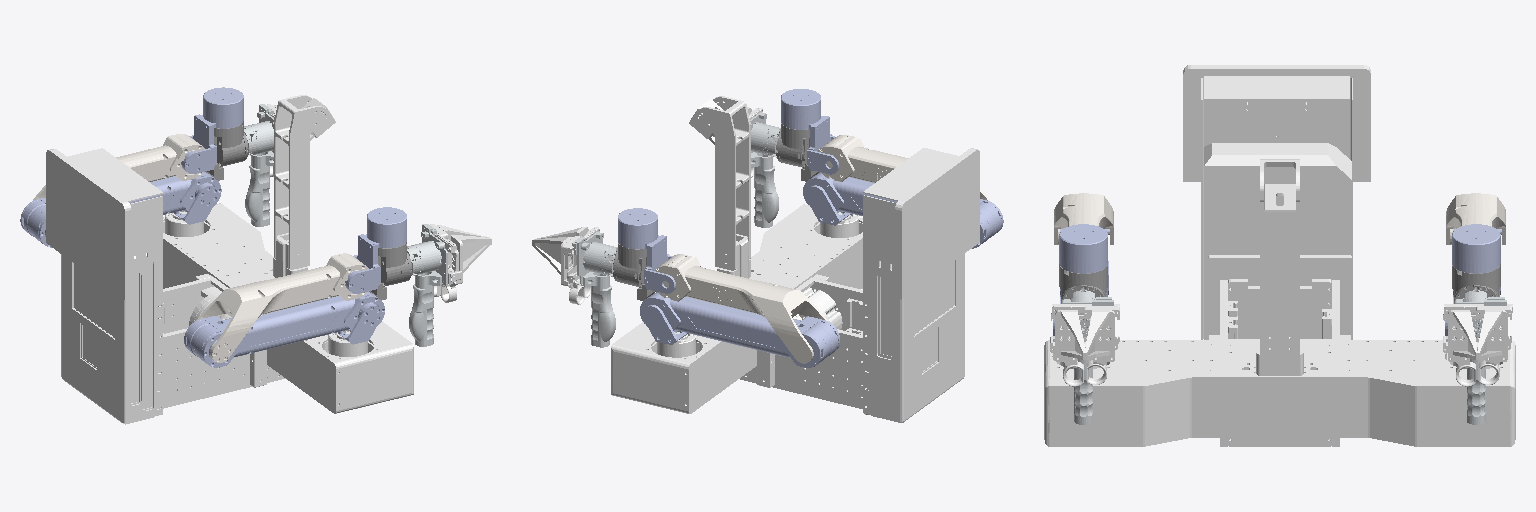
--- Render facts (derived) ---
The picture shows the robot from 3 angles, left to right: view 1: azimuth 30°, elevation 25°; view 2: azimuth 150°, elevation 25°; view 3: azimuth 270°, elevation 25°; orthographic projection.
Robot: lift2 — 21 links, 20 joints (12 revolute, 3 continuous, 5 prismatic); root link base_link; default pose: all joints at 0.
Visible links, largest first — view 1: body4, right_link23, right_link22, right_link26, left_link14, right_link24, left_link16, left_link12, left_link13, right_link28, left_link15, right_link25 (+3 smaller); view 2: body4, left_link13, left_link12, left_link16, right_link24, left_link14, right_link26, right_link23, right_link22, left_link17, left_link15, right_link25 (+2 smaller); view 3: body4, left_link17, right_link24, right_link27, left_link14, left_link13, right_link23, right_link28, left_link18, left_link16, right_link26, right_link25 (+1 smaller).
Link boxes in pixels (x1=…): body4: x1=46, y1=95, x2=413, y2=424; right_link23: x1=196, y1=253, x2=368, y2=362; right_link22: x1=184, y1=291, x2=384, y2=367; right_link26: x1=407, y1=224, x2=452, y2=346; left_link14: x1=182, y1=87, x2=243, y2=173; right_link24: x1=346, y1=207, x2=406, y2=293; left_link16: x1=244, y1=104, x2=273, y2=226; left_link12: x1=20, y1=172, x2=221, y2=247; left_link13: x1=33, y1=134, x2=204, y2=200; right_link28: x1=441, y1=235, x2=491, y2=302; left_link15: x1=205, y1=121, x2=248, y2=180; right_link25: x1=369, y1=242, x2=411, y2=299; body4: x1=611, y1=96, x2=979, y2=422; left_link13: x1=655, y1=254, x2=827, y2=363; left_link12: x1=640, y1=292, x2=839, y2=367; left_link16: x1=572, y1=232, x2=617, y2=347; right_link24: x1=781, y1=89, x2=838, y2=174; left_link14: x1=618, y1=208, x2=675, y2=293; right_link26: x1=750, y1=112, x2=780, y2=227; right_link23: x1=818, y1=135, x2=990, y2=201; right_link22: x1=803, y1=172, x2=1003, y2=248; left_link17: x1=532, y1=227, x2=599, y2=304; left_link15: x1=613, y1=243, x2=655, y2=300; right_link25: x1=776, y1=123, x2=818, y2=181; body4: x1=1044, y1=65, x2=1515, y2=446; left_link17: x1=1443, y1=304, x2=1512, y2=384; right_link24: x1=1059, y1=224, x2=1108, y2=296; right_link27: x1=1051, y1=304, x2=1119, y2=384; left_link14: x1=1452, y1=224, x2=1500, y2=296; left_link13: x1=1446, y1=193, x2=1505, y2=244; right_link23: x1=1054, y1=193, x2=1113, y2=244; right_link28: x1=1050, y1=310, x2=1119, y2=386; left_link18: x1=1443, y1=310, x2=1511, y2=386; left_link16: x1=1446, y1=290, x2=1506, y2=424; right_link26: x1=1053, y1=290, x2=1113, y2=424; right_link25: x1=1059, y1=264, x2=1107, y2=301.
Bounding box of the posed robot: 0.5737 × 0.6 × 0.4177 m (x, y, z).
17 mesh visuals loaded from 21 distinct referenced files (17 binary STL); not drawn: 4 (reference not matched to a file when rendering).

URDF robot description (lift2):
<?xml version="1.0" encoding="utf-8"?>
<!-- This URDF was automatically created by SolidWorks to URDF Exporter! Originally created by Stephen Brawner ([email redacted]) 
     Commit Version: 1.6.0-4-g7f85cfe  Build Version: 1.6.7995.38578
     For more information, please see http://wiki.ros.org/sw_urdf_exporter -->
<robot
  name="lift2">
  <link
    name="base_link">
    <inertial>
      <origin
        xyz="-0.010039 0.0013761 0.04956"
        rpy="0 0 0" />
      <mass
        value="21.045" />
      <inertia
        ixx="1.70029164"
        ixy="-0.00073232"
        ixz="-0.03255532"
        iyy="1.70804910"
        iyz="-0.00688370"
        izz="0.97173287" />
    </inertial>
    <visual>
      <origin
        xyz="0 0 0"
        rpy="0 0 0" />
      <geometry>
        <mesh
          filename="package://lift2/meshes/base_link.STL" />
      </geometry>
      <material
        name="">
        <color
          rgba="0.69804 0.69804 0.69804 1" />
      </material>
    </visual>
    <collision>
      <origin
        xyz="0 0 0"
        rpy="0 0 0" />
      <geometry>
        <mesh
          filename="package://lift2/meshes/base_link.STL" />
      </geometry>
    </collision>
  </link>
  <link
    name="wheel1">
    <inertial>
      <origin
        xyz="0.035966 2.6831E-06 8.693E-07"
        rpy="0 0 0" />
      <mass
        value="0.5746" />
      <inertia
        ixx="0.00142306"
        ixy="0.00000000"
        ixz="0.00000000"
        iyy="0.00084449"
        iyz="0.00000002"
        izz="0.00084474" />
    </inertial>
    <visual>
      <origin
        xyz="0 0 0"
        rpy="0 0 0" />
      <geometry>
        <mesh
          filename="package://lift2/meshes/wheel1.STL" />
      </geometry>
      <material
        name="">
        <color
          rgba="0.69804 0.69804 0.69804 1" />
      </material>
    </visual>
    <collision>
      <origin
        xyz="0 0 0"
        rpy="0 0 0" />
      <geometry>
        <mesh
          filename="package://lift2/meshes/wheel1.STL" />
      </geometry>
    </collision>
  </link>
  <joint
    name="joint1"
    type="continuous">
    <origin
      xyz="0.15361 0.29246 -0.093"
      rpy="0 0 1.0472" />
    <parent
      link="base_link" />
    <child
      link="wheel1" />
    <axis
      xyz="1 0 0" />
    <limit
      effort="17"
      velocity="27" />
  </joint>
  <link
    name="wheel2">
    <inertial>
      <origin
        xyz="0.035966 2.8161E-06 7.9768E-09"
        rpy="0 0 0" />
      <mass
        value="0.5746" />
      <inertia
        ixx="0.00142306"
        ixy="0.00000000"
        ixz="0.00000000"
        iyy="0.00084449"
        iyz="0.00000002"
        izz="0.00084474" />
    </inertial>
    <visual>
      <origin
        xyz="0 0 0"
        rpy="0 0 0" />
      <geometry>
        <mesh
          filename="package://lift2/meshes/wheel2.STL" />
      </geometry>
      <material
        name="">
        <color
          rgba="0.69804 0.69804 0.69804 1" />
      </material>
    </visual>
    <collision>
      <origin
        xyz="0 0 0"
        rpy="0 0 0" />
      <geometry>
        <mesh
          filename="package://lift2/meshes/wheel2.STL" />
      </geometry>
    </collision>
  </link>
  <joint
    name="joint2"
    type="continuous">
    <origin
      xyz="0.15361 -0.29245 -0.093"
      rpy="0 0 -1.0472" />
    <parent
      link="base_link" />
    <child
      link="wheel2" />
    <axis
      xyz="1 0 0" />
    <limit
      effort="17"
      velocity="27" />
  </joint>
  <link
    name="wheel3">
    <inertial>
      <origin
        xyz="-0.035971 2.8084E-06 -1.6209E-07"
        rpy="0 0 0" />
      <mass
        value="0.5746" />
      <inertia
        ixx="0.00142306"
        ixy="0.00000000"
        ixz="0.00000000"
        iyy="0.00084449"
        iyz="0.00000002"
        izz="0.00084474" />
    </inertial>
    <visual>
      <origin
        xyz="0 0 0"
        rpy="0 0 0" />
      <geometry>
        <mesh
          filename="package://lift2/meshes/wheel3.STL" />
      </geometry>
      <material
        name="">
        <color
          rgba="0.89804 0.91765 0.92941 1" />
      </material>
    </visual>
    <collision>
      <origin
        xyz="0 0 0"
        rpy="0 0 0" />
      <geometry>
        <mesh
          filename="package://lift2/meshes/wheel3.STL" />
      </geometry>
    </collision>
  </link>
  <joint
    name="joint3"
    type="continuous">
    <origin
      xyz="-0.35293 0 -0.093"
      rpy="0 0 0" />
    <parent
      link="base_link" />
    <child
      link="wheel3" />
    <axis
      xyz="-1 0 0" />
    <limit
      effort="17"
      velocity="27" />
  </joint>
  <link
    name="body4">
    <inertial>
      <origin
        xyz="-0.053315 -0.00061422 -0.0086454"
        rpy="0 0 0" />
      <mass
        value="14.181" />
      <inertia
        ixx="0.32744849"
        ixy="-0.00306617"
        ixz="0.05920163"
        iyy="0.36541112"
        iyz="0.00117932"
        izz="0.49616592" />
    </inertial>
    <visual>
      <origin
        xyz="0 0 0"
        rpy="0 0 0" />
      <geometry>
        <mesh
          filename="package://lift2/meshes/body4.STL" />
      </geometry>
      <material
        name="">
        <color
          rgba="1 1 1 1" />
      </material>
    </visual>
    <collision>
      <origin
        xyz="0 0 0"
        rpy="0 0 0" />
      <geometry>
        <mesh
          filename="package://lift2/meshes/body4.STL" />
      </geometry>
    </collision>
  </link>
  <joint
    name="joint4"
    type="prismatic">
    <origin
      xyz="0.094118 0.0010067 0.27"
      rpy="0 0 0" />
    <parent
      link="base_link" />
    <child
      link="body4" />
    <axis
      xyz="0 0 1" />
    <limit
      lower="0"
      upper="0.46"
      effort="400"
      velocity="0.15" />
  </joint>
  <link
    name="left_link11">
    <inertial>
      <origin
        xyz="0.0054231 -0.0080289 0.017086"
        rpy="0 0 0" />
      <mass
        value="0.066982" />
      <inertia
        ixx="0.00008086"
        ixy="0.00000207"
        ixz="-0.00000876"
        iyy="0.00003211"
        iyz="0.00000440"
        izz="0.00007702" />
    </inertial>
    <visual>
      <origin
        xyz="0 0 0"
        rpy="0 0 0" />
      <geometry>
        <mesh
          filename="package://lift2/meshes/left_link11.STL" />
      </geometry>
      <material
        name="">
        <color
          rgba="0.79216 0.81961 0.93333 1" />
      </material>
    </visual>
    <collision>
      <origin
        xyz="0 0 0"
        rpy="0 0 0" />
      <geometry>
        <mesh
          filename="package://lift2/meshes/left_link11.STL" />
      </geometry>
    </collision>
  </link>
  <joint
    name="left_joint11"
    type="revolute">
    <origin
      xyz="0.059949 0.25 0.0245"
      rpy="0 0 0" />
    <parent
      link="body4" />
    <child
      link="left_link11" />
    <axis
      xyz="0 0 1" />
    <limit
      lower="-2.094"
      upper="3.1416"
      effort="27"
      velocity="5.5" />
  </joint>
  <link
    name="left_link12">
    <inertial>
      <origin
        xyz="-0.13234 -0.0040166 0.00010941"
        rpy="0 0 0" />
      <mass
        value="1.1068" />
      <inertia
        ixx="0.00054299"
        ixy="-0.00000184"
        ixz="0.00003884"
        iyy="0.01652639"
        iyz="-0.00000035"
        izz="0.01654931" />
    </inertial>
    <visual>
      <origin
        xyz="0 0 0"
        rpy="0 0 0" />
      <geometry>
        <mesh
          filename="package://lift2/meshes/left_link12.STL" />
      </geometry>
      <material
        name="">
        <color
          rgba="0.79216 0.81961 0.93333 1" />
      </material>
    </visual>
    <collision>
      <origin
        xyz="0 0 0"
        rpy="0 0 0" />
      <geometry>
        <mesh
          filename="package://lift2/meshes/left_link12.STL" />
      </geometry>
    </collision>
  </link>
  <joint
    name="left_joint12"
    type="revolute">
    <origin
      xyz="0.02 0 0.04"
      rpy="0 0 0" />
    <parent
      link="left_link11" />
    <child
      link="left_link12" />
    <axis
      xyz="0 1 0" />
    <limit
      lower="0"
      upper="3.665"
      effort="27"
      velocity="5.5" />
  </joint>
  <link
    name="left_link13">
    <inertial>
      <origin
        xyz="0.18544 -0.00071369 0.051628"
        rpy="0 0 0" />
      <mass
        value="0.54316" />
      <inertia
        ixx="0.00036398"
        ixy="-0.00002814"
        ixz="-0.00039418"
        iyy="0.00422770"
        iyz="-0.00001179"
        izz="0.00419421" />
    </inertial>
    <visual>
      <origin
        xyz="0 0 0"
        rpy="0 0 0" />
      <geometry>
        <mesh
          filename="package://lift2/meshes/left_link13.STL" />
      </geometry>
      <material
        name="">
        <color
          rgba="1 0.98431 0.96471 1" />
      </material>
    </visual>
    <collision>
      <origin
        xyz="0 0 0"
        rpy="0 0 0" />
      <geometry>
        <mesh
          filename="package://lift2/meshes/left_link13.STL" />
      </geometry>
    </collision>
  </link>
  <joint
    name="left_joint13"
    type="revolute">
    <origin
      xyz="-0.264 3E-05 0"
      rpy="0 0 0" />
    <parent
      link="left_link12" />
    <child
      link="left_link13" />
    <axis
      xyz="0 -1 0" />
    <limit
      lower="0"
      upper="3.24"
      effort="27"
      velocity="5.5" />
  </joint>
  <link
    name="left_link14">
    <inertial>
      <origin
        xyz="0.039966 -0.0043045 0.035006"
        rpy="0 0 0" />
      <mass
        value="0.11827" />
      <inertia
        ixx="0.00019329"
        ixy="-0.00001619"
        ixz="-0.00008654"
        iyy="0.00023401"
        iyz="-0.00001744"
        izz="0.00014391" />
    </inertial>
    <visual>
      <origin
        xyz="0 0 0"
        rpy="0 0 0" />
      <geometry>
        <mesh
          filename="package://lift2/meshes/left_link14.STL" />
      </geometry>
      <material
        name="">
        <color
          rgba="0.79216 0.81961 0.92941 1" />
      </material>
    </visual>
    <collision>
      <origin
        xyz="0 0 0"
        rpy="0 0 0" />
      <geometry>
        <mesh
          filename="package://lift2/meshes/left_link14.STL" />
      </geometry>
    </collision>
  </link>
  <joint
    name="left_joint14"
    type="revolute">
    <origin
      xyz="0.245 -3E-05 0.056"
      rpy="0 0 0" />
    <parent
      link="left_link13" />
    <child
      link="left_link14" />
    <axis
      xyz="0 -1 0" />
    <limit
      lower="-1.671"
      upper="1.671"
      effort="7"
      velocity="20" />
  </joint>
  <link
    name="left_link15">
    <inertial>
      <origin
        xyz="0.0029491 8.4086E-05 -0.054795"
        rpy="0 0 0" />
      <mass
        value="0.67398" />
      <inertia
        ixx="0.00092704"
        ixy="0.00000049"
        ixz="0.00004559"
        iyy="0.00091568"
        iyz="0.00000053"
        izz="0.00028327" />
    </inertial>
    <visual>
      <origin
        xyz="0 0 0"
        rpy="0 0 0" />
      <geometry>
        <mesh
          filename="package://lift2/meshes/left_link15.STL" />
      </geometry>
      <material
        name="">
        <color
          rgba="0.69804 0.69804 0.69804 1" />
      </material>
    </visual>
    <collision>
      <origin
        xyz="0 0 0"
        rpy="0 0 0" />
      <geometry>
        <mesh
          filename="package://lift2/meshes/left_link15.STL" />
      </geometry>
    </collision>
  </link>
  <joint
    name="left_joint15"
    type="revolute">
    <origin
      xyz="0.06775 0 0.0845"
      rpy="0 0 0" />
    <parent
      link="left_link14" />
    <child
      link="left_link15" />
    <axis
      xyz="0 0 -1" />
    <limit
      lower="-1.671"
      upper="1.671"
      effort="7"
      velocity="20" />
  </joint>
  <link
    name="left_link16">
    <inertial>
      <origin
        xyz="0.040212 3.4542E-05 -0.010225"
        rpy="0 0 0" />
      <mass
        value="0.34667" />
      <inertia
        ixx="0.00047210"
        ixy="-0.00000041"
        ixz="-0.00002976"
        iyy="0.00049011"
        iyz="-0.00003393"
        izz="0.00018496" />
    </inertial>
    <visual>
      <origin
        xyz="0 0 0"
        rpy="0 0 0" />
      <geometry>
        <mesh
          filename="package://lift2/meshes/left_link16.STL" />
      </geometry>
      <material
        name="">
        <color
          rgba="0.89804 0.91765 0.92941 1" />
      </material>
    </visual>
    <collision>
      <origin
        xyz="0 0 0"
        rpy="0 0 0" />
      <geometry>
        <mesh
          filename="package://lift2/meshes/left_link16.STL" />
      </geometry>
    </collision>
  </link>
  <joint
    name="left_joint16"
    type="revolute">
    <origin
      xyz="0.02895 0 -0.0845"
      rpy="0 0 0" />
    <parent
      link="left_link15" />
    <child
      link="left_link16" />
    <axis
      xyz="1 0 0" />
    <limit
      lower="-2.094"
      upper="2.094"
      effort="7"
      velocity="20" />
  </joint>
  <link
    name="left_link17">
    <inertial>
      <origin
        xyz="-0.0060354 -0.015602 0.013499"
        rpy="0 0 0" />
      <mass
        value="0.08924" />
      <inertia
        ixx="0.00009869"
        ixy="-0.00000394"
        ixz="0.00001011"
        iyy="0.00009021"
        iyz="0.00001113"
        izz="0.00006849" />
    </inertial>
    <visual>
      <origin
        xyz="0 0 0"
        rpy="0 0 0" />
      <geometry>
        <mesh
          filename="package://lift2/meshes/left_link17.STL" />
      </geometry>
      <material
        name="">
        <color
          rgba="1 1 1 1" />
      </material>
    </visual>
    <collision>
      <origin
        xyz="0 0 0"
        rpy="0 0 0" />
      <geometry>
        <mesh
          filename="package://lift2/meshes/left_link17.STL" />
      </geometry>
    </collision>
  </link>
  <joint
    name="left_joint17"
    type="prismatic">
    <origin
      xyz="0.08397 0.02721 -0.0062702"
      rpy="0 0 0" />
    <parent
      link="left_link16" />
    <child
      link="left_link17" />
    <axis
      xyz="0 1 0" />
    <limit
      lower="0"
      upper="0.044"
      effort="300"
      velocity="0.053" />
  </joint>
  <link
    name="left_link18">
    <inertial>
      <origin
        xyz="-0.00581 0.015593 -0.012255"
        rpy="0 0 0" />
      <mass
        value="0.089402" />
      <inertia
        ixx="0.00007306"
        ixy="0.00000404"
        ixz="-0.00001526"
        iyy="0.00006428"
        iyz="0.00000327"
        izz="0.00006822" />
    </inertial>
    <visual>
      <origin
        xyz="0 0 0"
        rpy="0 0 0" />
      <geometry>
        <mesh
          filename="package://lift2/meshes/left_link18.STL" />
      </geometry>
      <material
        name="">
        <color
          rgba="1 1 1 1" />
      </material>
    </visual>
    <collision>
      <origin
        xyz="0 0 0"
        rpy="0 0 0" />
      <geometry>
        <mesh
          filename="package://lift2/meshes/left_link18.STL" />
      </geometry>
    </collision>
  </link>
  <joint
    name="left_joint18"
    type="prismatic">
    <origin
      xyz="0.08397 -0.023638 -0.0062703"
      rpy="0 0 0" />
    <parent
      link="left_link16" />
    <child
      link="left_link18" />
    <axis
      xyz="0 -1 0" />
    <limit
      lower="0"
      upper="0.044"
      effort="300"
      velocity="0.053" />
    <mimic joint="left_joint17" multiplier="1" offset="0" />
  </joint>
  <link
    name="right_link21">
    <inertial>
      <origin
        xyz="0.0054231 -0.0080289 0.017086"
        rpy="0 0 0" />
      <mass
        value="0.066982" />
      <inertia
        ixx="0.00008086"
        ixy="0.00000207"
        ixz="-0.00000876"
        iyy="0.00003211"
        iyz="0.00000440"
        izz="0.00007702" />
    </inertial>
    <visual>
      <origin
        xyz="0 0 0"
        rpy="0 0 0" />
      <geometry>
        <mesh
          filename="package://lift2/meshes/right_link21.STL" />
      </geometry>
      <material
        name="">
        <color
          rgba="0.79216 0.81961 0.93333 1" />
      </material>
    </visual>
    <collision>
      <origin
        xyz="0 0 0"
        rpy="0 0 0" />
      <geometry>
        <mesh
          filename="package://lift2/meshes/right_link21.STL" />
      </geometry>
    </collision>
  </link>
  <joint
    name="right_joint21"
    type="revolute">
    <origin
      xyz="0.059949 -0.25 0.0245"
      rpy="0 0 0" />
    <parent
      link="body4" />
    <child
      link="right_link21" />
    <axis
      xyz="0 0 1" />
    <limit
      lower="-2.094"
      upper="3.1416"
      effort="27"
      velocity="5.5" />
  </joint>
  <link
    name="right_link22">
    <inertial>
      <origin
        xyz="-0.13234 -0.0040166 0.00010941"
        rpy="0 0 0" />
      <mass
        value="1.1068" />
      <inertia
        ixx="0.00054299"
        ixy="-0.00000184"
        ixz="0.00003884"
        iyy="0.01652639"
        iyz="-0.00000035"
        izz="0.01654931" />
    </inertial>
    <visual>
      <origin
        xyz="0 0 0"
        rpy="0 0 0" />
      <geometry>
        <mesh
          filename="package://lift2/meshes/right_link22.STL" />
      </geometry>
      <material
        name="">
        <color
          rgba="0.79216 0.81961 0.93333 1" />
      </material>
    </visual>
    <collision>
      <origin
        xyz="0 0 0"
        rpy="0 0 0" />
      <geometry>
        <mesh
          filename="package://lift2/meshes/right_link22.STL" />
      </geometry>
    </collision>
  </link>
  <joint
    name="right_joint22"
    type="revolute">
    <origin
      xyz="0.02 0 0.04"
      rpy="0 0 0" />
    <parent
      link="right_link21" />
    <child
      link="right_link22" />
    <axis
      xyz="0 1 0" />
    <limit
      lower="0"
      upper="3.665"
      effort="27"
      velocity="5.5" />
  </joint>
  <link
    name="right_link23">
    <inertial>
      <origin
        xyz="0.18544 -0.00071369 0.051628"
        rpy="0 0 0" />
      <mass
        value="0.54316" />
      <inertia
        ixx="0.00036398"
        ixy="-0.00002814"
        ixz="-0.00039418"
        iyy="0.00422770"
        iyz="-0.00001179"
        izz="0.00419421" />
    </inertial>
    <visual>
      <origin
        xyz="0 0 0"
        rpy="0 0 0" />
      <geometry>
        <mesh
          filename="package://lift2/meshes/right_link23.STL" />
      </geometry>
      <material
        name="">
        <color
          rgba="1 0.98431 0.96471 1" />
      </material>
    </visual>
    <collision>
      <origin
        xyz="0 0 0"
        rpy="0 0 0" />
      <geometry>
        <mesh
          filename="package://lift2/meshes/right_link23.STL" />
      </geometry>
    </collision>
  </link>
  <joint
    name="right_joint23"
    type="revolute">
    <origin
      xyz="-0.264 3E-05 0"
      rpy="0 0 0" />
    <parent
      link="right_link22" />
    <child
      link="right_link23" />
    <axis
      xyz="0 -1 0" />
    <limit
      lower="0"
      upper="3.24"
      effort="27"
      velocity="5.5" />
  </joint>
  <link
    name="right_link24">
    <inertial>
      <origin
        xyz="0.039966 -0.0043045 0.035006"
        rpy="0 0 0" />
      <mass
        value="0.11827" />
      <inertia
        ixx="0.00019329"
        ixy="-0.00001619"
        ixz="-0.00008654"
        iyy="0.00023401"
        iyz="-0.00001744"
        izz="0.00014391" />
    </inertial>
    <visual>
      <origin
        xyz="0 0 0"
        rpy="0 0 0" />
      <geometry>
        <mesh
          filename="package://lift2/meshes/right_link24.STL" />
      </geometry>
      <material
        name="">
        <color
          rgba="0.79216 0.81961 0.93333 1" />
      </material>
    </visual>
    <collision>
      <origin
        xyz="0 0 0"
        rpy="0 0 0" />
      <geometry>
        <mesh
          filename="package://lift2/meshes/right_link24.STL" />
      </geometry>
    </collision>
  </link>
  <joint
    name="right_joint24"
    type="revolute">
    <origin
      xyz="0.245 -3E-05 0.056"
      rpy="0 0 0" />
    <parent
      link="right_link23" />
    <child
      link="right_link24" />
    <axis
      xyz="0 -1 0" />
    <limit
      lower="-1.671"
      upper="1.671"
      effort="7"
      velocity="20" />
  </joint>
  <link
    name="right_link25">
    <inertial>
      <origin
        xyz="0.0029491 8.4086E-05 -0.054795"
        rpy="0 0 0" />
      <mass
        value="0.67398" />
      <inertia
        ixx="0.00092704"
        ixy="0.00000049"
        ixz="0.00004559"
        iyy="0.00091568"
        iyz="0.00000053"
        izz="0.00028327" />
    </inertial>
    <visual>
      <origin
        xyz="0 0 0"
        rpy="0 0 0" />
      <geometry>
        <mesh
          filename="package://lift2/meshes/right_link25.STL" />
      </geometry>
      <material
        name="">
        <color
          rgba="0.69804 0.69804 0.69804 1" />
      </material>
    </visual>
    <collision>
      <origin
        xyz="0 0 0"
        rpy="0 0 0" />
      <geometry>
        <mesh
          filename="package://lift2/meshes/right_link25.STL" />
      </geometry>
    </collision>
  </link>
  <joint
    name="right_joint25"
    type="revolute">
    <origin
      xyz="0.06775 0 0.0845"
      rpy="0 0 0" />
    <parent
      link="right_link24" />
    <child
      link="right_link25" />
    <axis
      xyz="0 0 -1" />
    <limit
      lower="-1.671"
      upper="1.671"
      effort="7"
      velocity="20" />
  </joint>
  <link
    name="right_link26">
    <inertial>
      <origin
        xyz="0.040212 3.4542E-05 -0.010225"
        rpy="0 0 0" />
      <mass
        value="0.34667" />
      <inertia
        ixx="0.00047210"
        ixy="-0.00000041"
        ixz="-0.00002976"
        iyy="0.00049011"
        iyz="-0.00003393"
        izz="0.00018496" />
    </inertial>
    <visual>
      <origin
        xyz="0 0 0"
        rpy="0 0 0" />
      <geometry>
        <mesh
          filename="package://lift2/meshes/right_link26.STL" />
      </geometry>
      <material
        name="">
        <color
          rgba="0.89804 0.91765 0.92941 1" />
      </material>
    </visual>
    <collision>
      <origin
        xyz="0 0 0"
        rpy="0 0 0" />
      <geometry>
        <mesh
          filename="package://lift2/meshes/right_link26.STL" />
      </geometry>
    </collision>
  </link>
  <joint
    name="right_joint26"
    type="revolute">
    <origin
      xyz="0.02895 0 -0.0845"
      rpy="0 0 0" />
    <parent
      link="right_link25" />
    <child
      link="right_link26" />
    <axis
      xyz="1 0 0" />
    <limit
      lower="-2.094"
      upper="2.094"
      effort="7"
      velocity="20" />
  </joint>
  <link
    name="right_link27">
    <inertial>
      <origin
        xyz="-0.0060354 -0.015602 0.013499"
        rpy="0 0 0" />
      <mass
        value="0.08924" />
      <inertia
        ixx="0.00009869"
        ixy="-0.00000394"
        ixz="0.00001011"
        iyy="0.00009021"
        iyz="0.00001113"
        izz="0.00006849" />
    </inertial>
    <visual>
      <origin
        xyz="0 0 0"
        rpy="0 0 0" />
      <geometry>
        <mesh
          filename="package://lift2/meshes/right_link27.STL" />
      </geometry>
      <material
        name="">
        <color
          rgba="1 1 1 1" />
      </material>
    </visual>
    <collision>
      <origin
        xyz="0 0 0"
        rpy="0 0 0" />
      <geometry>
        <mesh
          filename="package://lift2/meshes/right_link27.STL" />
      </geometry>
    </collision>
  </link>
  <joint
    name="right_joint27"
    type="prismatic">
    <origin
      xyz="0.08397 0.02721 -0.0062702"
      rpy="0 0 0" />
    <parent
      link="right_link26" />
    <child
      link="right_link27" />
    <axis
      xyz="0 1 0" />
    <limit
      lower="0"
      upper="0.044"
      effort="300"
      velocity="0.053" />
  </joint>
  <link
    name="right_link28">
    <inertial>
      <origin
        xyz="-0.00581 0.015593 -0.012255"
        rpy="0 0 0" />
      <mass
        value="0.089402" />
      <inertia
        ixx="0.00007306"
        ixy="0.00000404"
        ixz="-0.00001526"
        iyy="0.00006428"
        iyz="0.00000327"
        izz="0.00006822" />
    </inertial>
    <visual>
      <origin
        xyz="0 0 0"
        rpy="0 0 0" />
      <geometry>
        <mesh
          filename="package://lift2/meshes/right_link28.STL" />
      </geometry>
      <material
        name="">
        <color
          rgba="1 1 1 1" />
      </material>
    </visual>
    <collision>
      <origin
        xyz="0 0 0"
        rpy="0 0 0" />
      <geometry>
        <mesh
          filename="package://lift2/meshes/right_link28.STL" />
      </geometry>
    </collision>
  </link>
  <joint
    name="right_joint28"
    type="prismatic">
    <origin
      xyz="0.08397 -0.023638 -0.0062703"
      rpy="0 0 0" />
    <parent
      link="right_link26" />
    <child
      link="right_link28" />
    <axis
      xyz="0 -1 0" />
    <limit
      lower="0"
      upper="0.044"
      effort="300"
      velocity="0.053" />
    <mimic joint="right_joint27" multiplier="1" offset="0" />
  </joint>
</robot>
